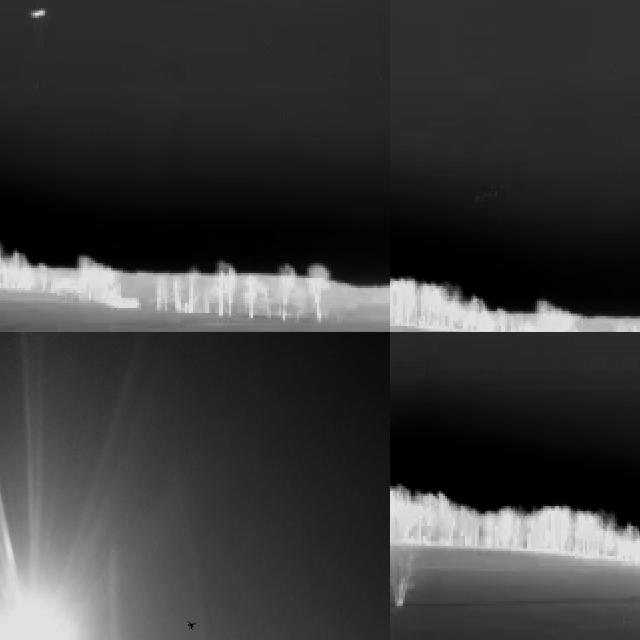0: (464, 187, 492, 217)
1: (22, 3, 54, 33)
drone: (182, 608, 198, 633)
